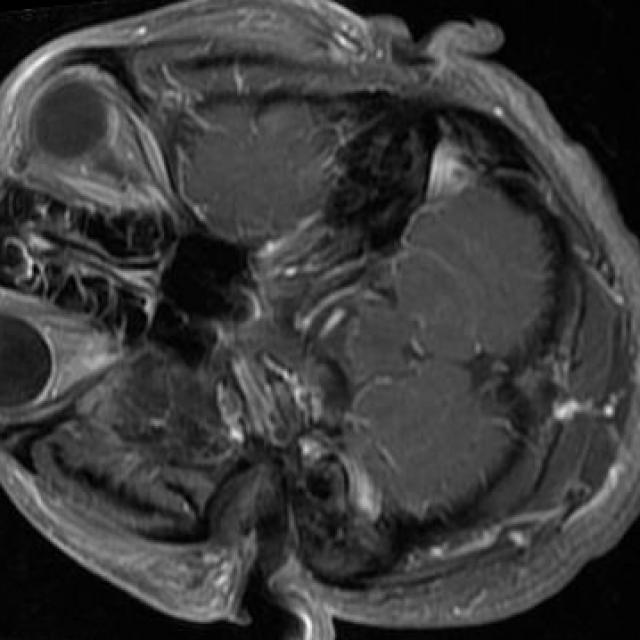glioma: (89, 355, 230, 467)
